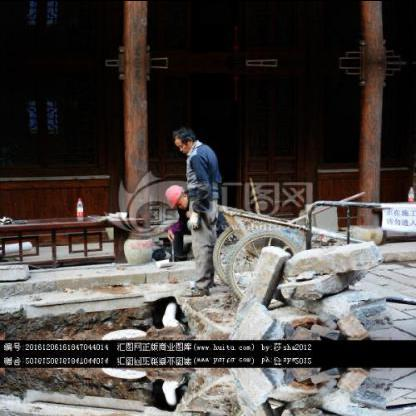Helmet: (164, 182, 188, 210)
No Helmet: (168, 122, 196, 152)
